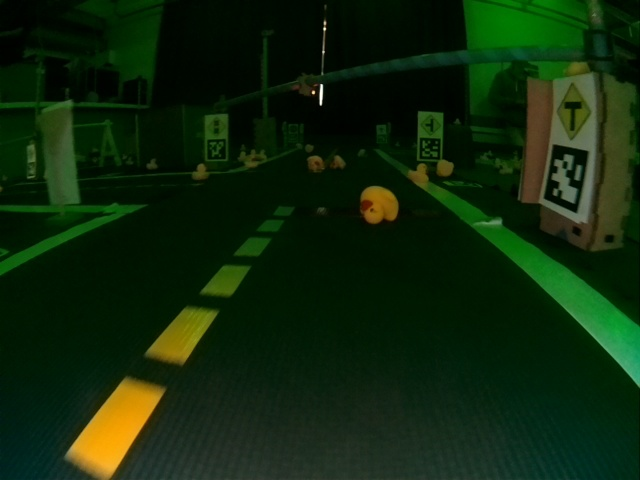Duckie: (360, 186, 397, 224), (409, 164, 427, 183), (438, 160, 453, 177), (309, 157, 322, 172), (194, 165, 206, 180), (332, 157, 345, 169)
Intersection sign: (555, 82, 591, 143), (420, 115, 441, 136)
QR code: (543, 144, 588, 214), (420, 139, 442, 161), (206, 140, 227, 160)
Signal sign: (207, 118, 227, 137)
Traffic light: (299, 74, 316, 96)
